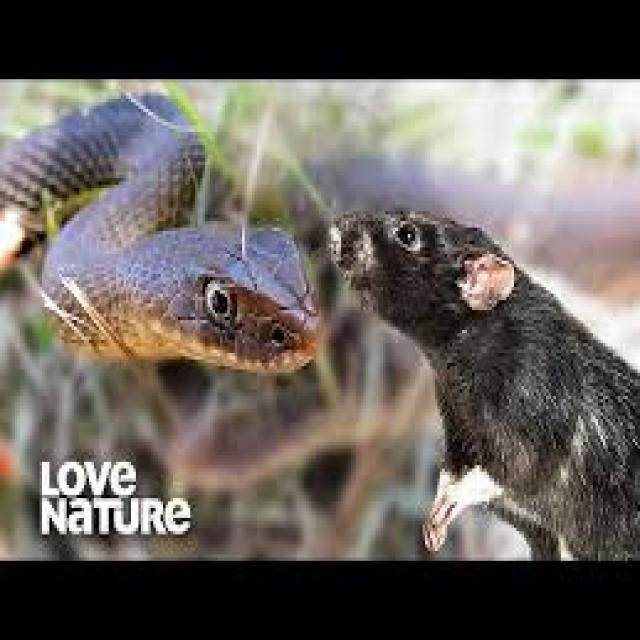Rat: (309, 154, 631, 524)
